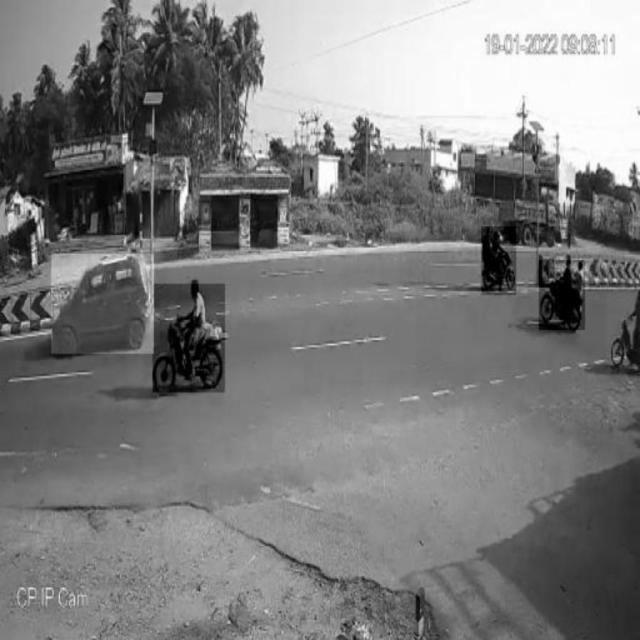vehicle: (51, 254, 153, 354), (153, 284, 225, 392), (539, 260, 585, 330), (606, 294, 640, 374), (481, 227, 516, 295)
